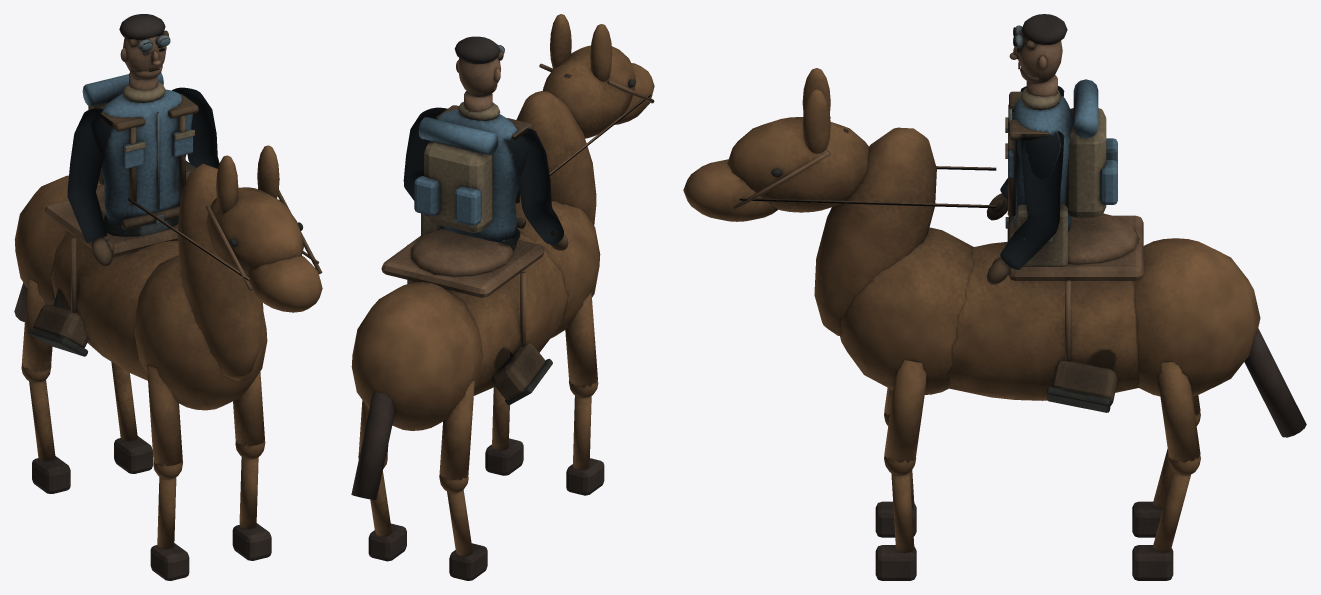
The model's file is CavalryMount.fbx.
3 renders of one model, left to right at view 1: azimuth 30°, elevation 25°; view 2: azimuth 150°, elevation 25°; view 3: azimuth 270°, elevation 25°, orthographic. The views are drawn at different scales.
Visible parts, largest first — view 1: CavalryMount; view 2: CavalryMount; view 3: CavalryMount.
Part boxes in pixels (x1=…): CavalryMount: x1=14, y1=14, x2=322, y2=580; CavalryMount: x1=351, y1=14, x2=654, y2=580; CavalryMount: x1=683, y1=14, x2=1306, y2=580.
Bounding box in the file's own units: 0.8222 × 2.31 × 2.43.
Materials: 1 (1 with a texture image).
